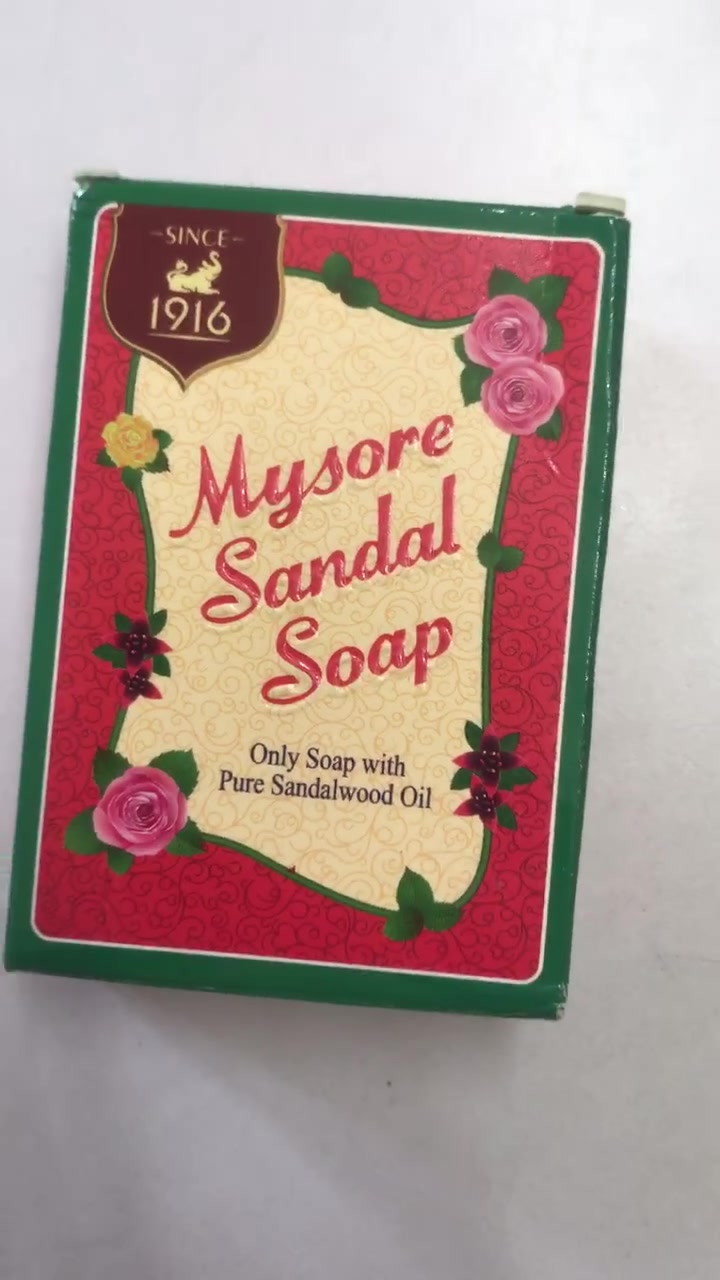mysore sandal soap: (6, 180, 631, 1016)
